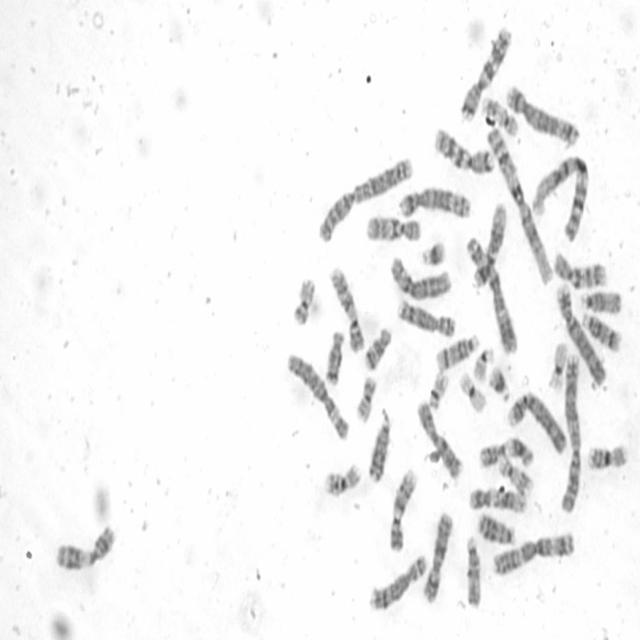A1: (486, 129, 554, 286), (529, 156, 593, 243)
A2: (316, 157, 414, 245), (558, 353, 583, 515)
A3: (467, 234, 519, 355), (490, 532, 574, 578)
B4: (556, 281, 608, 387), (506, 388, 566, 454)
B5: (505, 82, 580, 148), (398, 186, 471, 222)
C10: (553, 250, 609, 289), (366, 213, 421, 246)
C11: (52, 524, 118, 574), (478, 434, 534, 471)
C12: (473, 199, 508, 289), (469, 486, 530, 514)
C6: (286, 353, 352, 443), (389, 256, 453, 300)
C7: (457, 25, 512, 125), (434, 124, 496, 176)
C8: (367, 552, 426, 612), (397, 295, 456, 338)
C9: (329, 263, 367, 353), (388, 467, 417, 553)
D13: (367, 406, 392, 486), (478, 509, 516, 546)
D14: (580, 311, 623, 354), (435, 332, 481, 371)
D15: (465, 534, 483, 610), (578, 289, 623, 315)
E16: (318, 460, 364, 500), (586, 442, 630, 472)
E17: (482, 90, 519, 140), (500, 454, 533, 498)
E18: (362, 326, 392, 374), (324, 326, 344, 386)
F19: (458, 373, 488, 416), (548, 342, 568, 392)
F20: (290, 275, 318, 327), (356, 375, 378, 423)
G21: (488, 364, 512, 406), (422, 238, 447, 268)
G22: (472, 345, 495, 386), (428, 368, 450, 409)
X: (416, 397, 464, 481), (421, 510, 453, 604)
